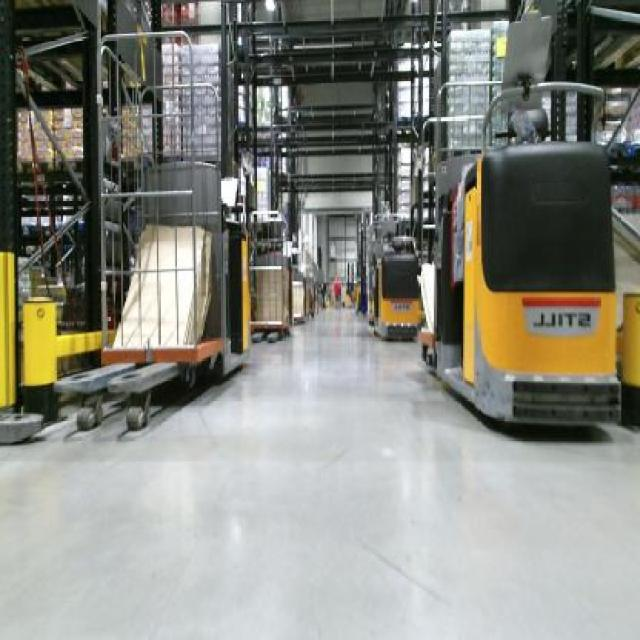ground: (0, 305, 638, 638)
pallet: (94, 335, 236, 398), (413, 330, 445, 370), (247, 316, 294, 340)
